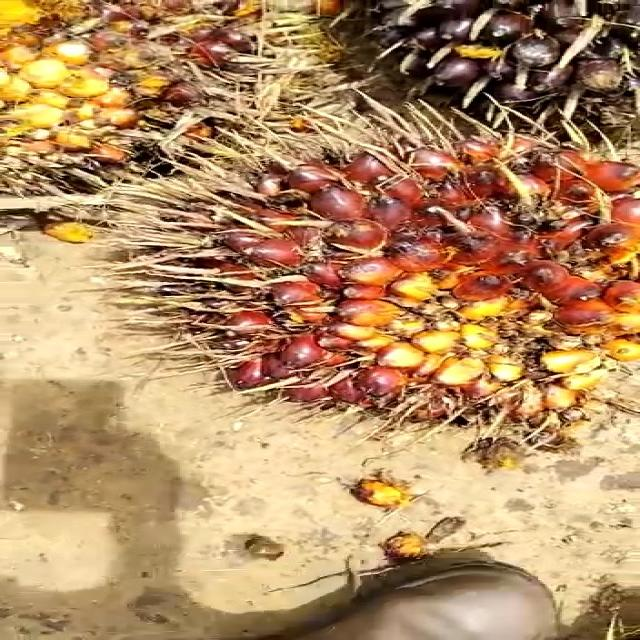palm oil: (172, 114, 640, 446)
